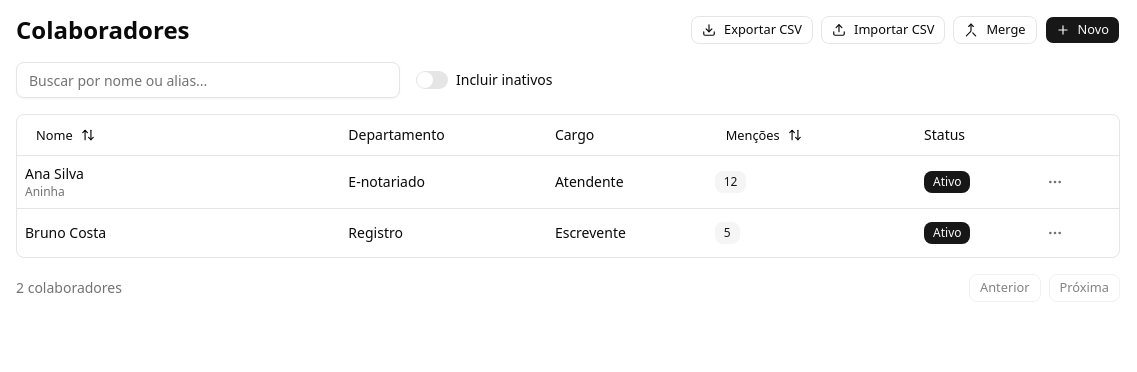
CollaboratorsPage › toggles inactive filter and shows inactive collaborators
Expected: the text "Ana Silva" is shown, [25,164,84,182]
Expected: the text "Carlos Inativo" is not shown
Note: Toggle the "Incluir inativos" switch using fireEvent to bypass PointerEvent quirks
Click the switch at coordinates (432, 80), box [416,71,448,89]
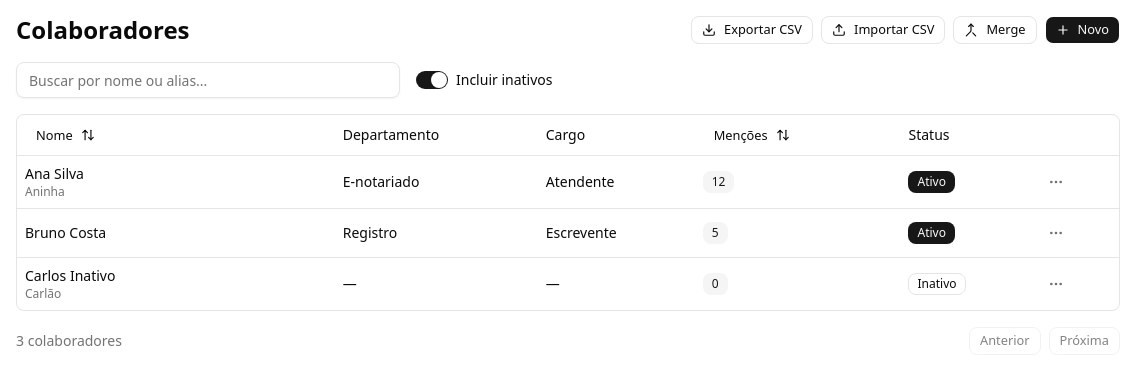
Now the text "Carlos Inativo" is shown, box [25,266,115,284]
